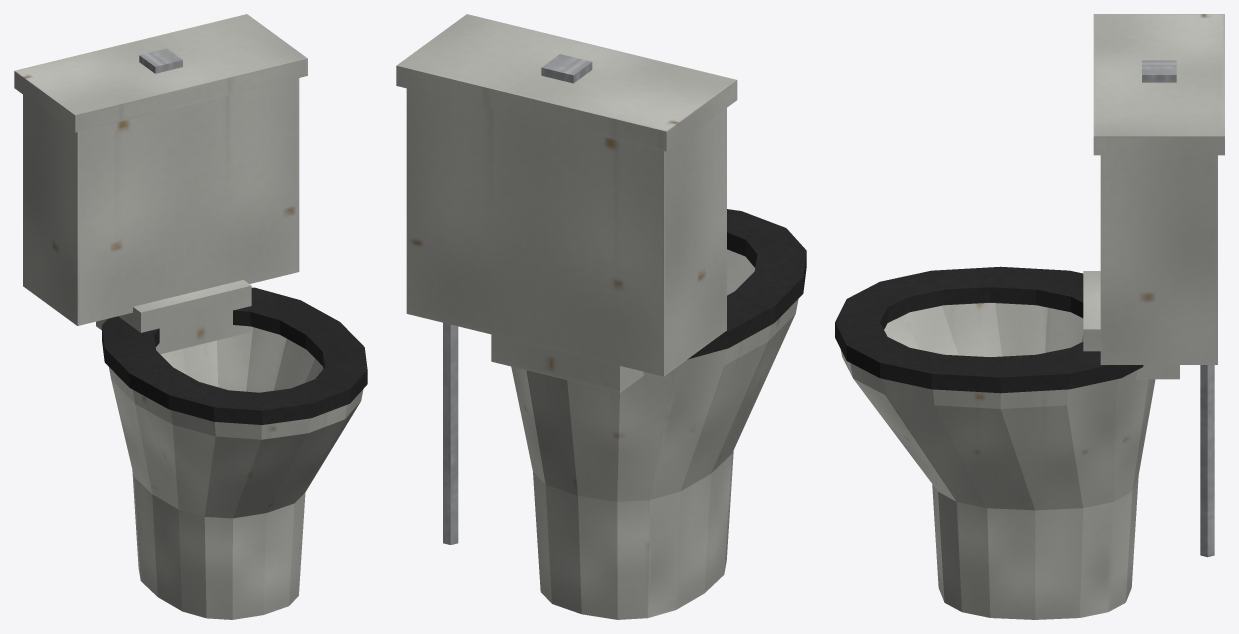
File: Toilet.fbx
3 renders of one model, left to right at view 1: azimuth 30°, elevation 25°; view 2: azimuth 150°, elevation 25°; view 3: azimuth 270°, elevation 25°, orthographic. The views are drawn at different scales.
Visible parts, largest first — view 1: унитаз; view 2: унитаз; view 3: унитаз.
Boxes of the visible parts, <box> form: унитаз: <box>14,14,367,619</box>; унитаз: <box>396,14,806,619</box>; унитаз: <box>835,14,1224,619</box>.
Bounding box in the file's own units: 0.42 × 0.832 × 0.565.
1 material, 1 textured.
